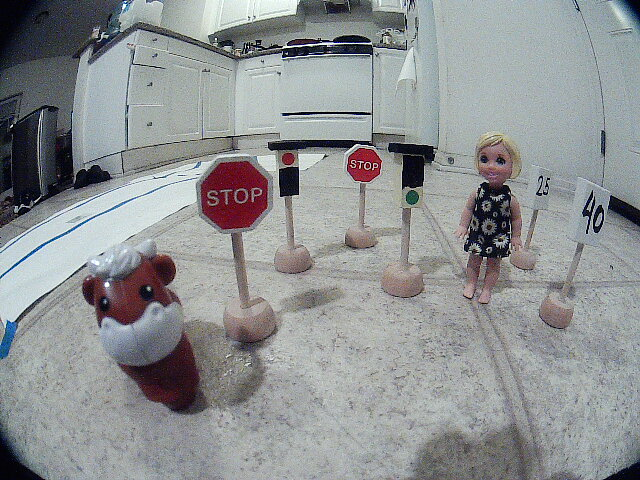Cow: (62, 240, 218, 431)
Green Traffic Light: (384, 137, 443, 221)
Person: (457, 129, 524, 327)
Red Traffic Light: (264, 137, 321, 217)
Speed Limit 25: (526, 160, 558, 214)
Speed Limit 40: (570, 168, 622, 269)
Stop Sign: (182, 144, 277, 254), (338, 142, 391, 190)
